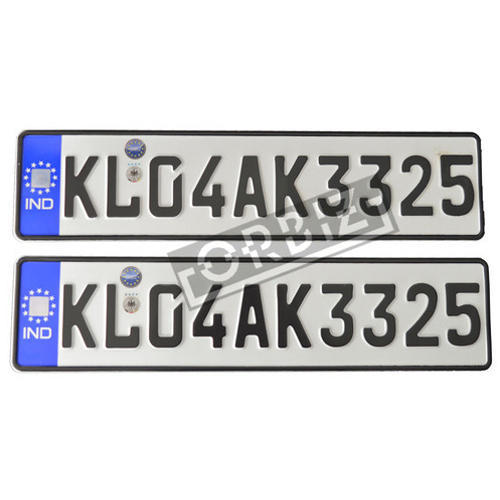inlp: (8, 250, 498, 377), (7, 122, 491, 245)
